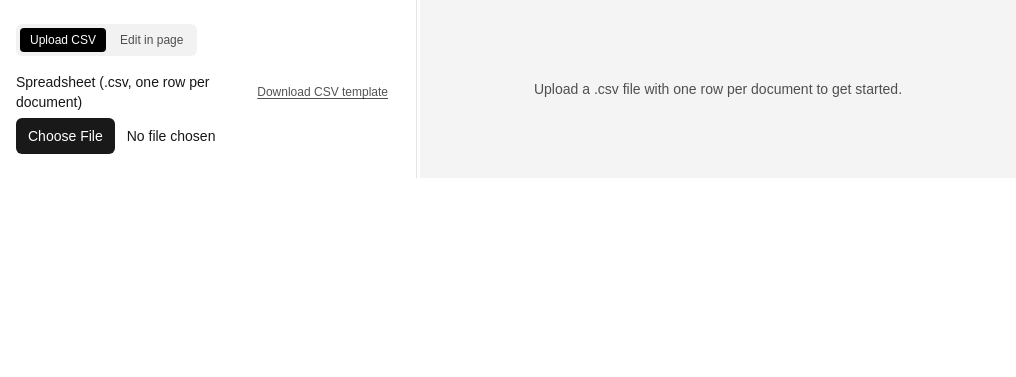
BulkFillForm — edit-in-page & generation › switches to the in-page edit view with one empty row and allows adding/removing rows
This screenshot has width=1016, height=377.
Click the button "Edit in page" at (152, 40), box [110,28,193,52]
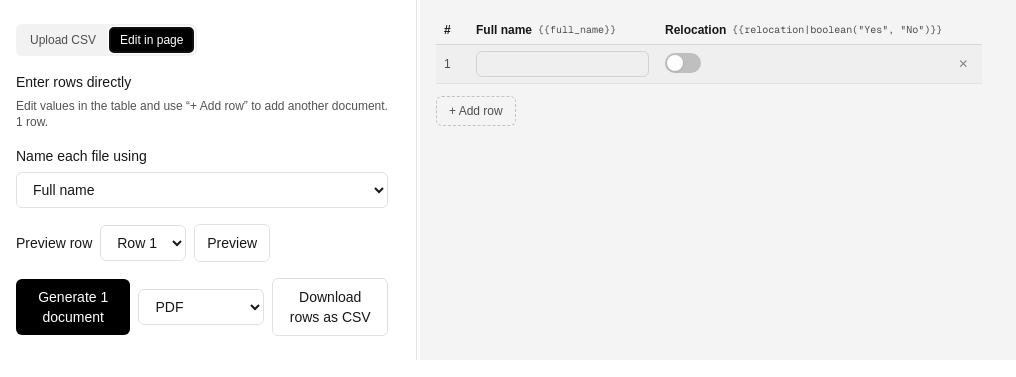
Result: the button "Generate 1 document" is shown at [16,279,130,335]
Click the button "+ Add row" at (476, 111), box [436,96,516,126]
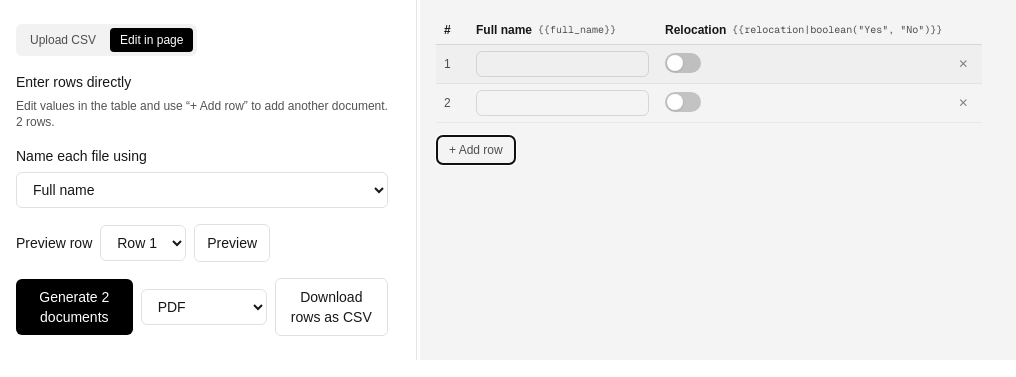
Result: the button "Generate 2 documents" is shown at [16,279,133,335]
Click the button named "Remove row 2" at (963, 103), box [958,95,968,111]
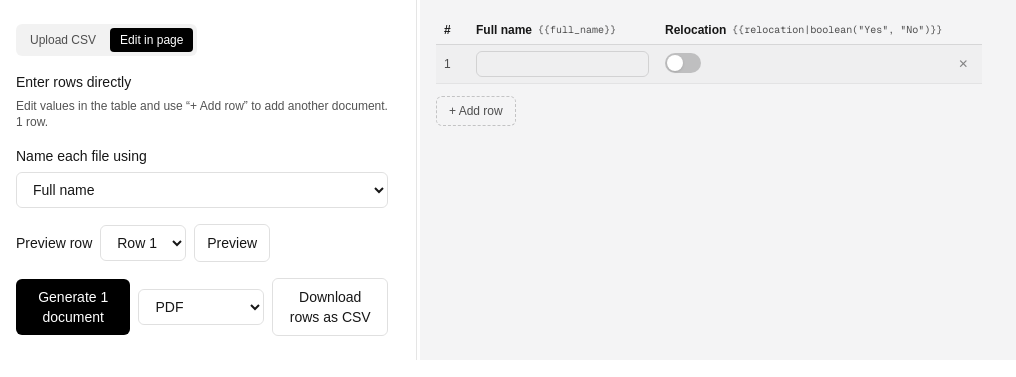
Result: the button "Generate 1 document" is shown at [16,279,130,335]
